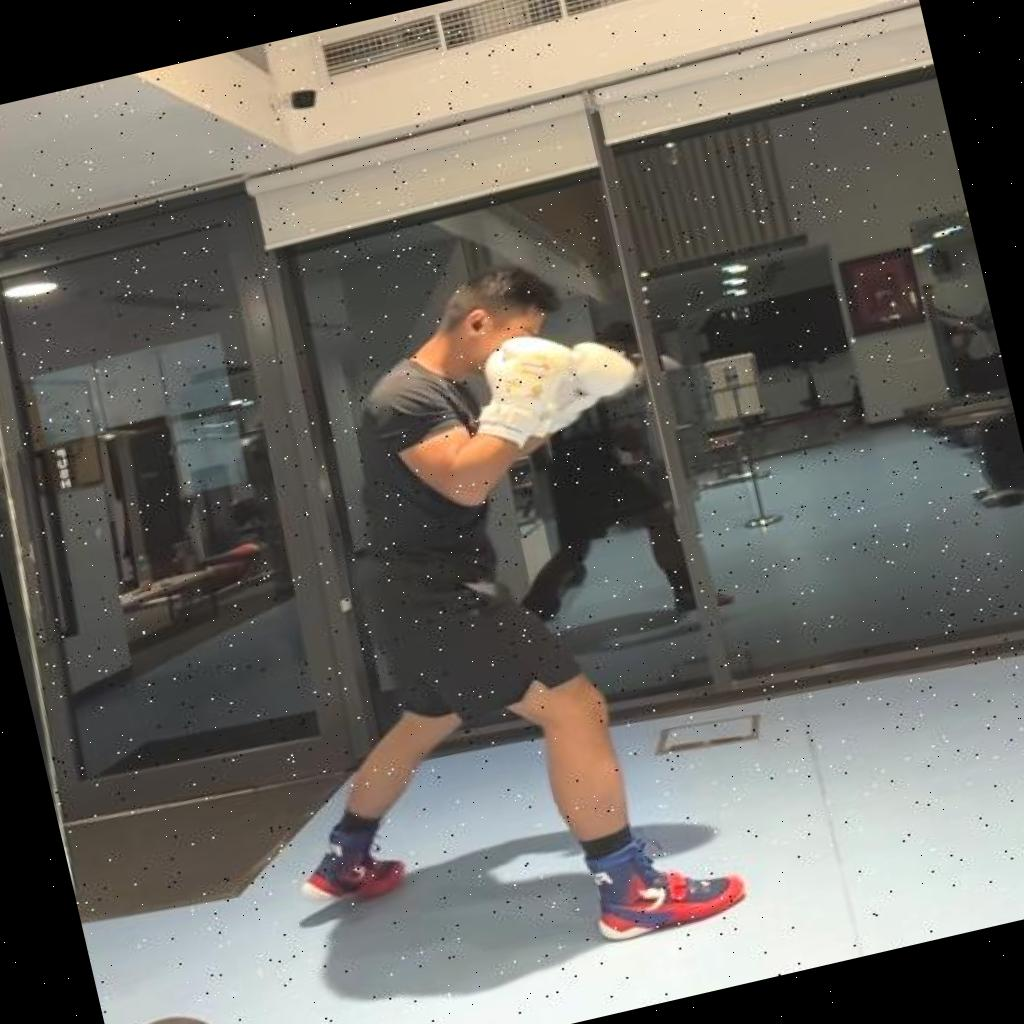no punch: (176, 242, 770, 1008)
